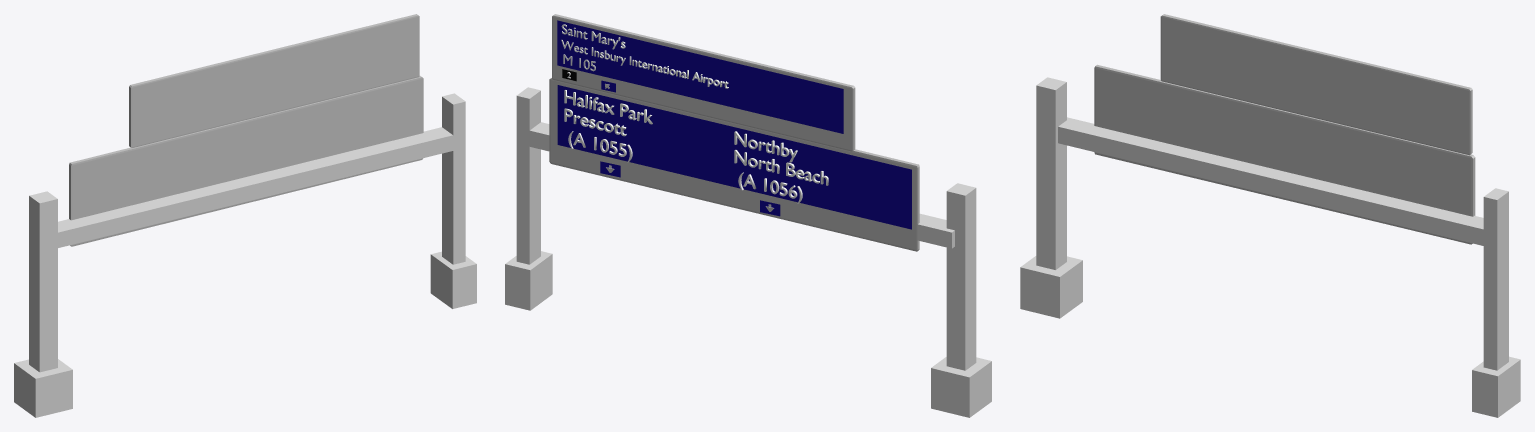
Rendered from M150JCT2ExitSignEastbound.fbx.
3 views of the same model, side by side, from view 1: azimuth 30°, elevation 25°; view 2: azimuth 150°, elevation 25°; view 3: azimuth 330°, elevation 25° (orthographic). The views are drawn at different scales.
Parts seen in each view (by area): view 1: Cube.002, Cube.008, Cube.001, Cube.005; view 2: Plane.002, Plane.001, Cube.002, Cube.005, Cube.001, Cube.008, Text.006, Text.002, Text.004, Text.005, Text.003; view 3: Cube.002, Cube.008, Cube.001, Cube.005.
Part boxes in pixels (box(x1,y1,x2,y2)): Cube.002: box(69, 76, 423, 246); Cube.008: box(129, 14, 419, 147); Cube.001: box(58, 93, 476, 308); Cube.005: box(14, 191, 72, 417); Plane.002: box(557, 85, 911, 229); Plane.001: box(557, 20, 843, 133); Cube.002: box(549, 78, 919, 251); Cube.005: box(931, 183, 991, 417); Cube.001: box(505, 87, 954, 310); Cube.008: box(552, 14, 855, 151); Text.006: box(734, 131, 828, 185); Text.002: box(564, 90, 652, 136); Text.004: box(561, 39, 728, 88); Text.005: box(738, 172, 802, 203); Text.003: box(568, 131, 632, 162); Cube.002: box(1094, 64, 1475, 244); Cube.008: box(1160, 14, 1472, 155); Cube.001: box(1058, 117, 1520, 417); Cube.005: box(1020, 77, 1082, 318).
Size of the model in its own units: 2381 by 1483 by 234.
